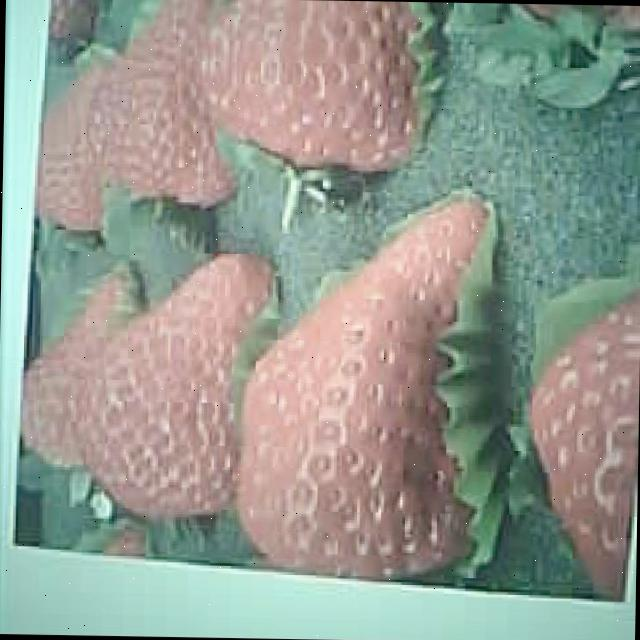strawberry: (238, 200, 484, 581), (79, 252, 272, 524)
